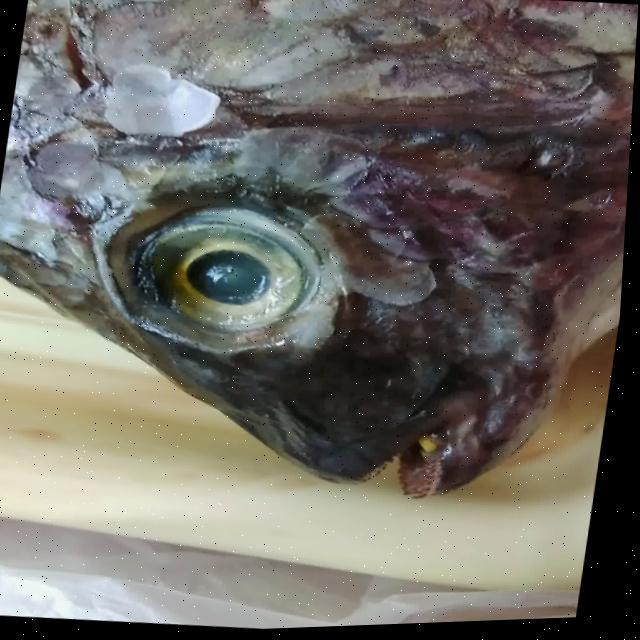Non-Fresh: (64, 138, 441, 415)
